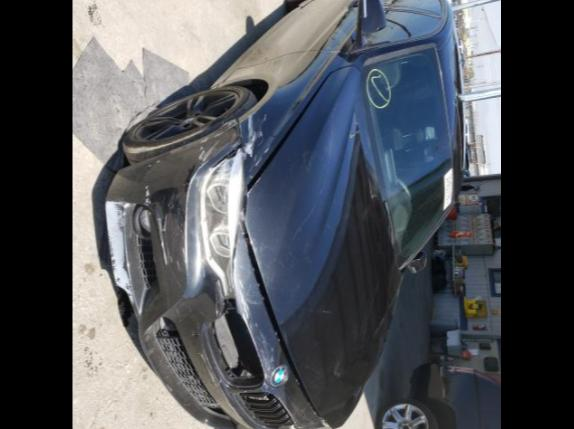Broken part: (238, 66, 340, 428), (196, 117, 244, 320)
Dent: (324, 306, 382, 384)
Missing part: (210, 296, 266, 386)
Scratch: (102, 200, 134, 306), (244, 112, 270, 158), (156, 212, 174, 266), (196, 134, 220, 162), (198, 350, 216, 384), (212, 118, 238, 138), (254, 144, 272, 168), (144, 186, 150, 206)
